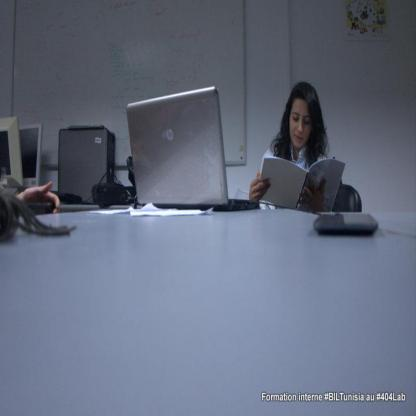board: (126, 87, 260, 210)
